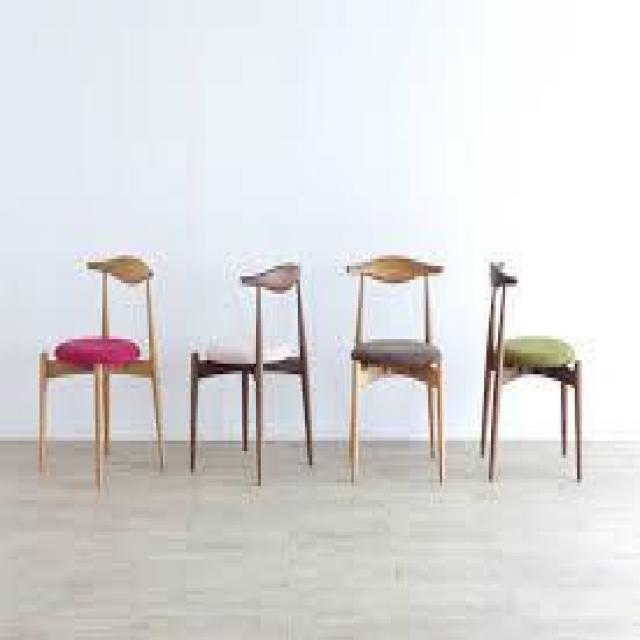chair: (22, 203, 602, 524)
